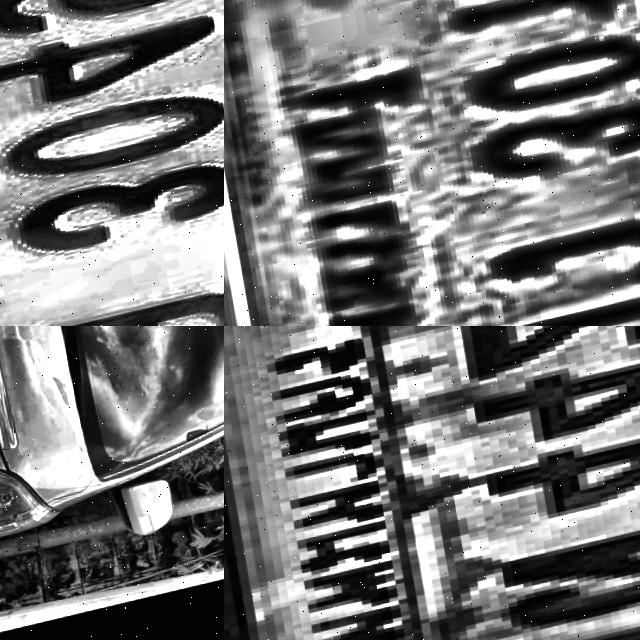license-plate: (224, 0, 640, 326), (224, 326, 640, 640), (0, 0, 224, 326)
